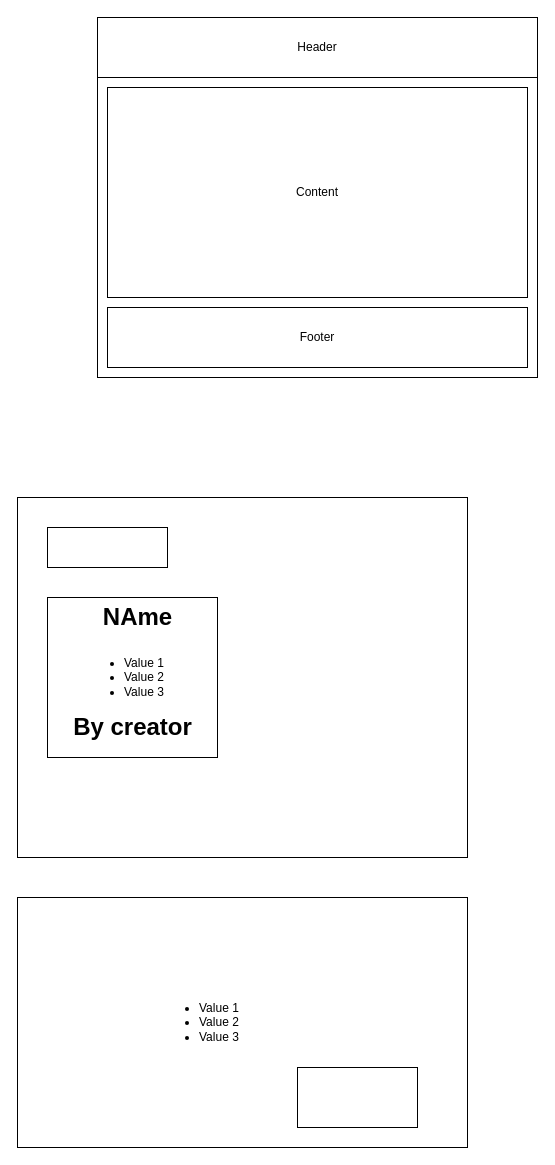
This 555x1165 diagram has some shape labels left out. Here are the shapes that lost their labels. From the top down, the centre of each, then its label:
At point 107,547: "Add Shopping List".
At point 357,1097: "ok".
